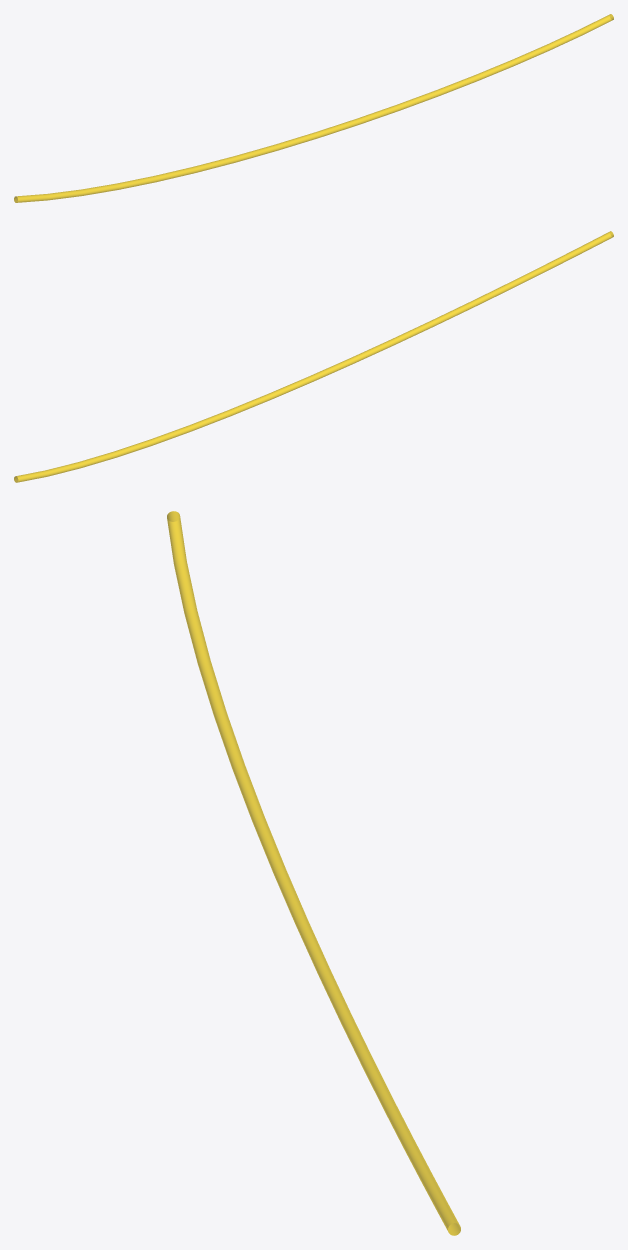
The model's file is Event_100608114_track_131.fbx.
3 views of the same model, one above another, from view 1: azimuth 30°, elevation 25°; view 2: azimuth 210°, elevation 25°; view 3: azimuth 270°, elevation 25° (orthographic). The views are drawn at different scales.
Visible parts, largest first — view 1: Model; view 2: Model; view 3: Model.
Boxes of the visible parts, bbox=[...] form: Model: bbox=[14, 14, 613, 202]; Model: bbox=[14, 231, 613, 482]; Model: bbox=[167, 511, 460, 1235].
Size of the model in its own units: 4.6 by 0.3291 by 0.8792.
